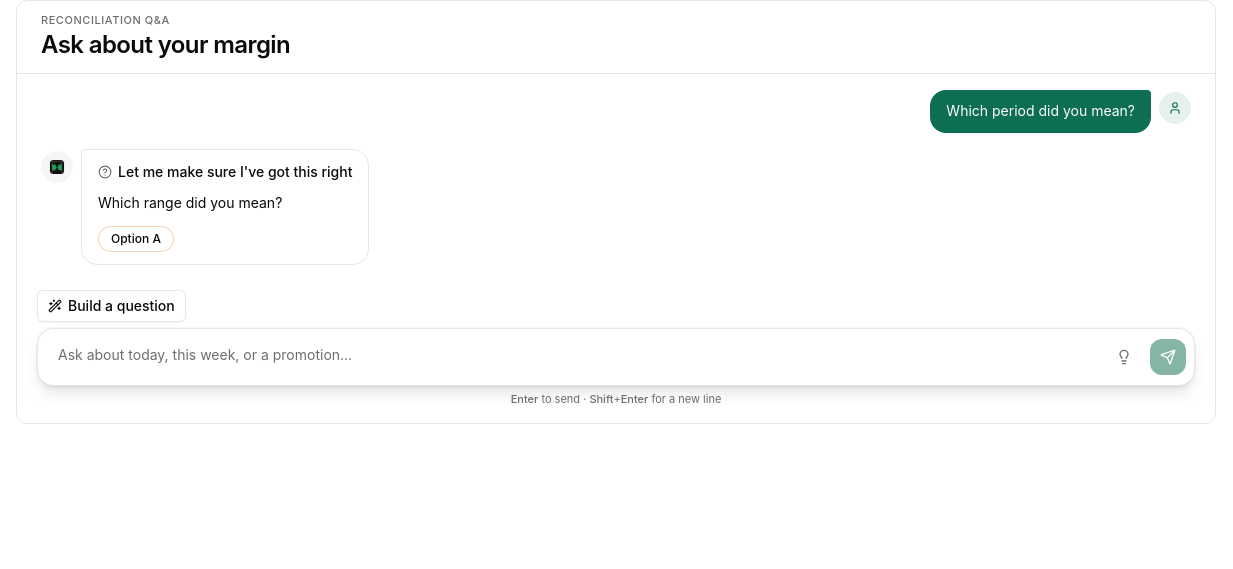
Test: ChatPanel › submits a clarification quick-reply as a new question and resolves its answer
What coordinates should you click on to do the following:
click the button "Option A"
I would click on:
 (136, 239)
Its box is top-left (98, 226), bottom-right (174, 252).
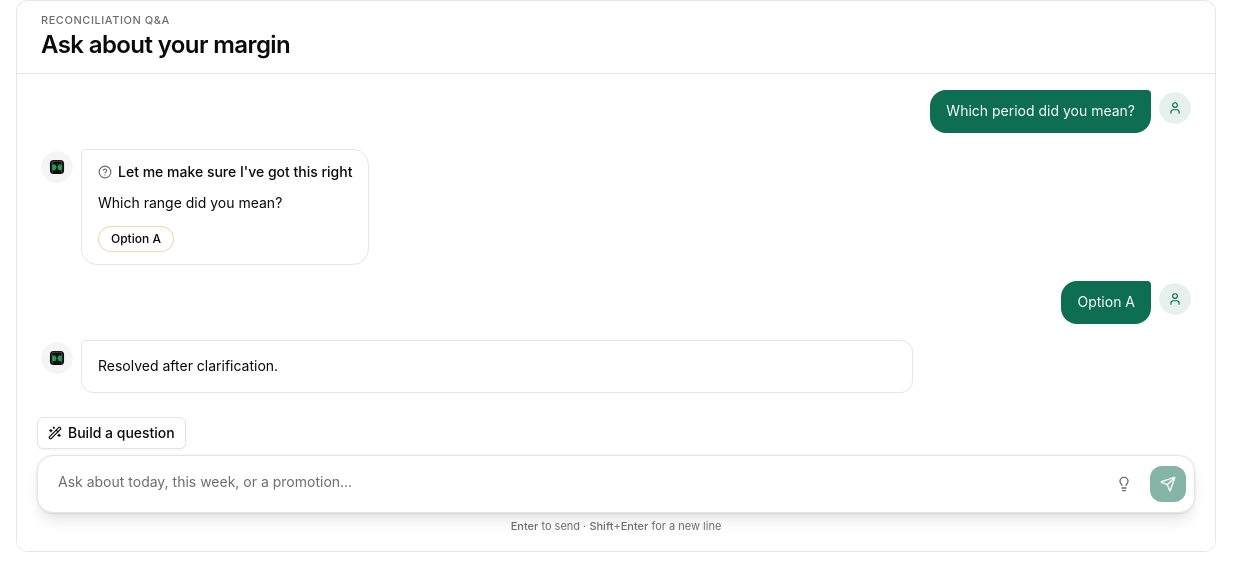
Expected: the text "Option A" is shown, top-left (1078, 291), bottom-right (1135, 314)
Expected: the text "Resolved after clarification." is shown, top-left (98, 357), bottom-right (278, 374)
